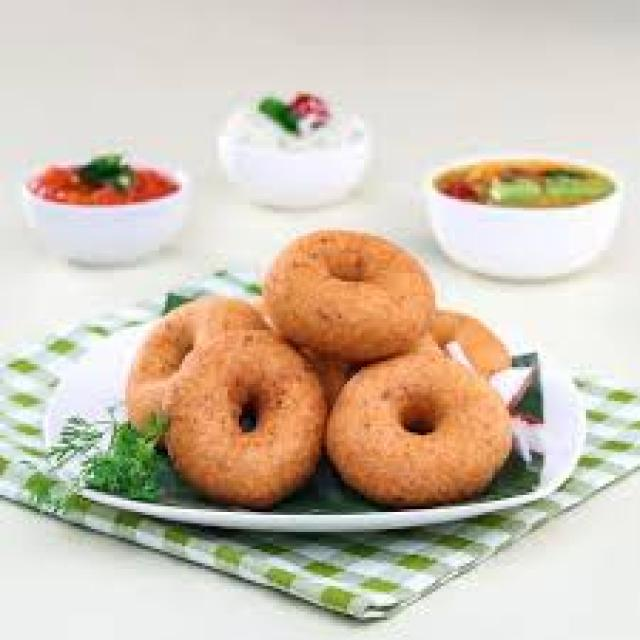MEDU VADA: (163, 330, 330, 494), (327, 359, 520, 495), (264, 222, 444, 359), (128, 289, 267, 429), (431, 312, 516, 377)
